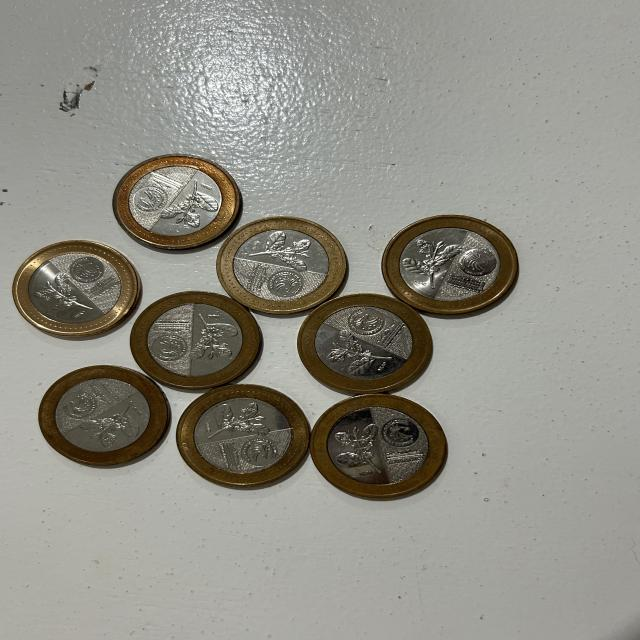20_New_Back: (322, 332, 396, 371), (337, 424, 385, 477), (37, 272, 94, 314), (84, 401, 136, 445), (253, 232, 313, 270), (405, 240, 454, 286), (164, 182, 216, 225), (189, 314, 239, 358), (213, 402, 269, 438)
